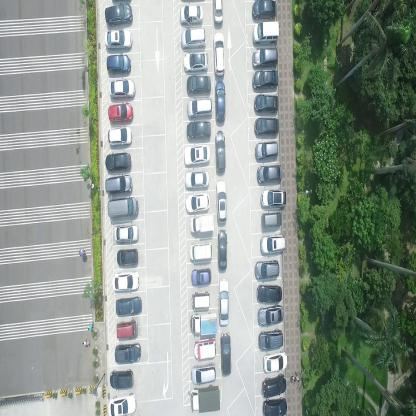car: (190, 384, 220, 413), (189, 309, 218, 338), (104, 2, 133, 27), (110, 270, 140, 294), (107, 196, 138, 219), (107, 392, 137, 415), (184, 144, 212, 168), (252, 21, 280, 44), (262, 349, 287, 374), (188, 214, 214, 238), (261, 372, 287, 396), (114, 342, 141, 365), (104, 175, 133, 196), (185, 192, 210, 216), (258, 327, 283, 351), (252, 45, 278, 68), (257, 303, 283, 326), (254, 257, 280, 280), (190, 361, 216, 384), (104, 152, 131, 174), (114, 295, 141, 317), (193, 336, 216, 361), (107, 103, 133, 125), (180, 27, 206, 49), (186, 97, 212, 119), (260, 186, 286, 208), (108, 79, 135, 100), (182, 51, 209, 72), (252, 68, 279, 89), (253, 92, 280, 113), (213, 30, 225, 77), (218, 275, 229, 326), (104, 30, 132, 50), (188, 240, 212, 263), (214, 129, 226, 175), (107, 126, 132, 148), (260, 232, 285, 254), (215, 179, 227, 224), (219, 330, 231, 375), (250, 0, 278, 19), (110, 367, 134, 389), (113, 224, 138, 245), (179, 4, 204, 25), (184, 170, 209, 191), (186, 75, 212, 95), (256, 164, 282, 184), (256, 283, 282, 303), (214, 80, 226, 123), (116, 318, 138, 341), (254, 139, 278, 160), (106, 54, 131, 74), (254, 116, 280, 135), (186, 120, 210, 140), (262, 397, 288, 415), (190, 265, 212, 285), (190, 289, 210, 310), (261, 210, 282, 230), (116, 249, 138, 268), (217, 227, 226, 271), (212, 0, 224, 25)
